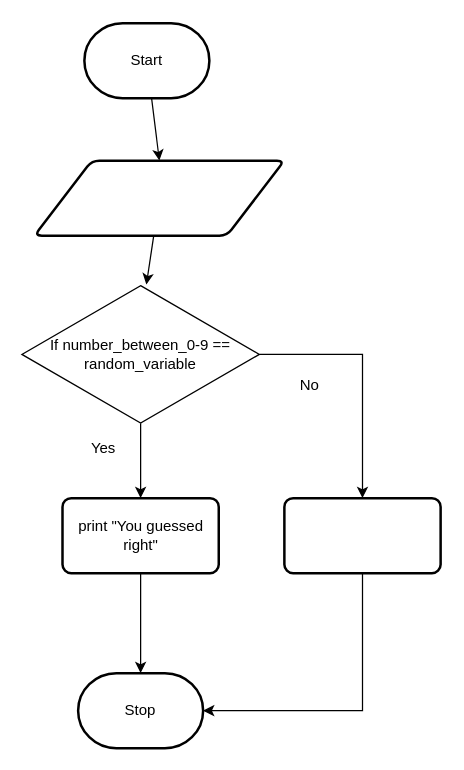
Some shapes in this 464 by 770 pixel diagram are drawn without their labels. Each missing label, with the centre of its shape:
Get number_between_0-9: point (158, 197)
print "You guessed wrong, the number was {random_variable}": point (361, 535)
